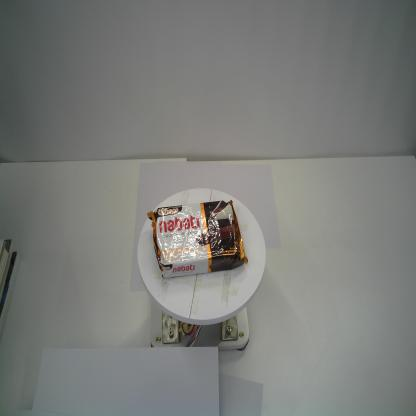Dessert: (146, 198, 248, 278)
